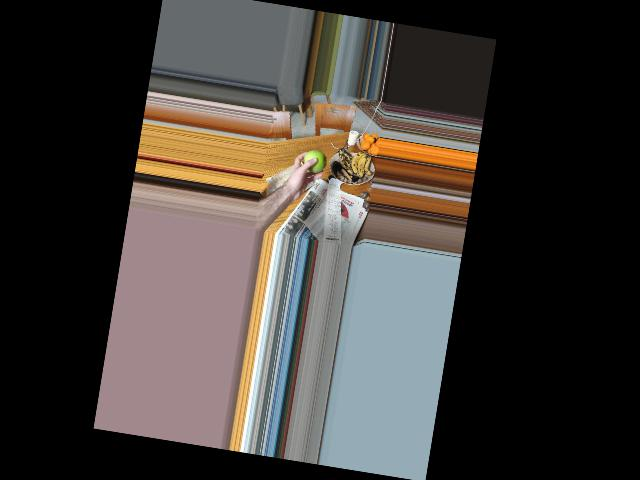apple: (302, 146, 328, 176)
